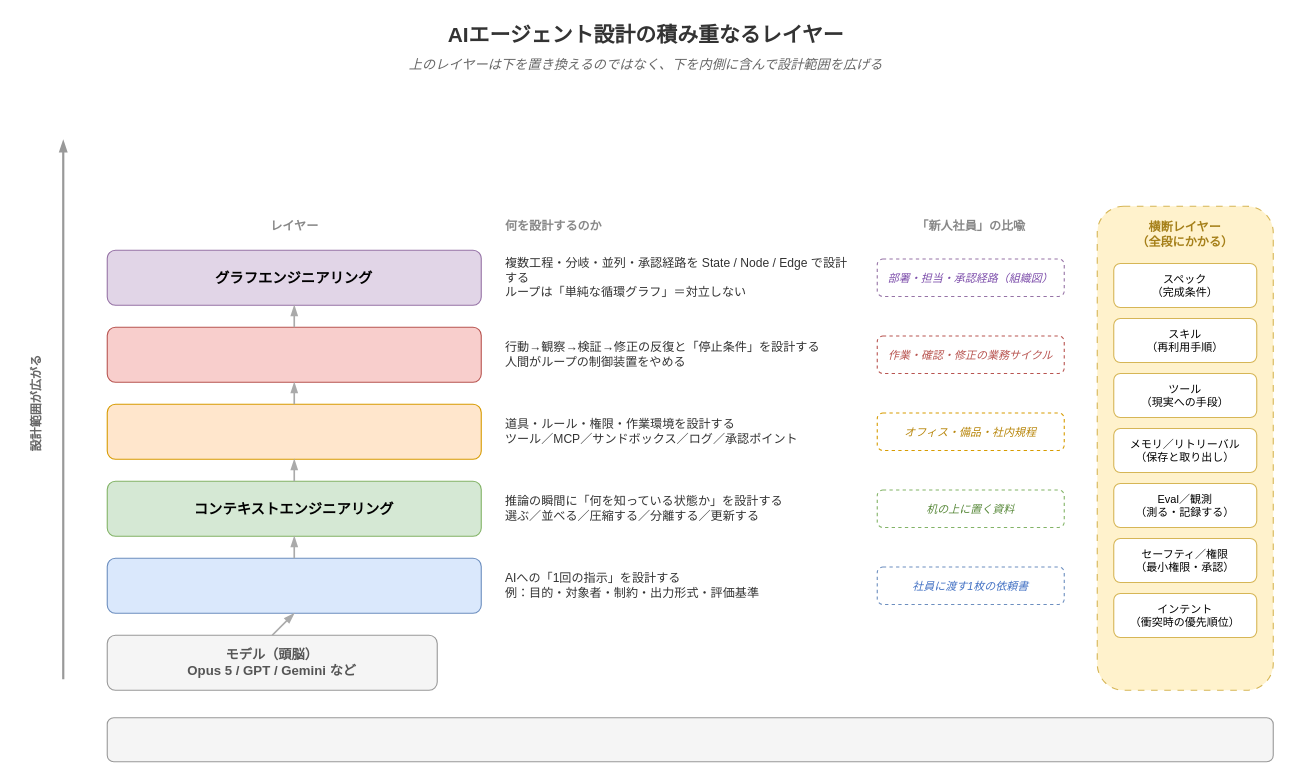
Image size: 1293x781. Some labels were removed from this diagram. The centre of each missing label's shape, as x and y in pixels:
"ハーネスエンジニアリング" belongs at pixel 293 431.
"プロンプトエンジニアリング" belongs at pixel 293 585.
"ループエンジニアリング" belongs at pixel 293 354.
"成果 ＝ モデルの能力 × 仕様の明確さ × コンテキストの質 × ツールの使いやすさ × 検証ループの強さ × 安全設計" belongs at pixel 689 739.
